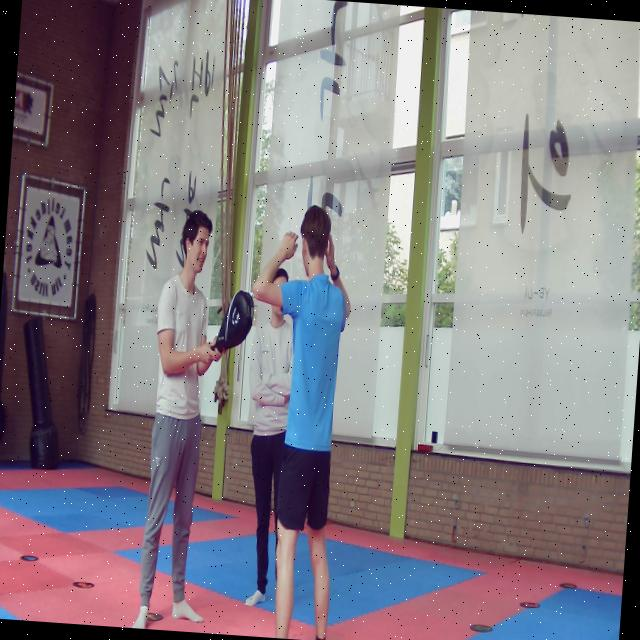paddle: (211, 289, 254, 351)
